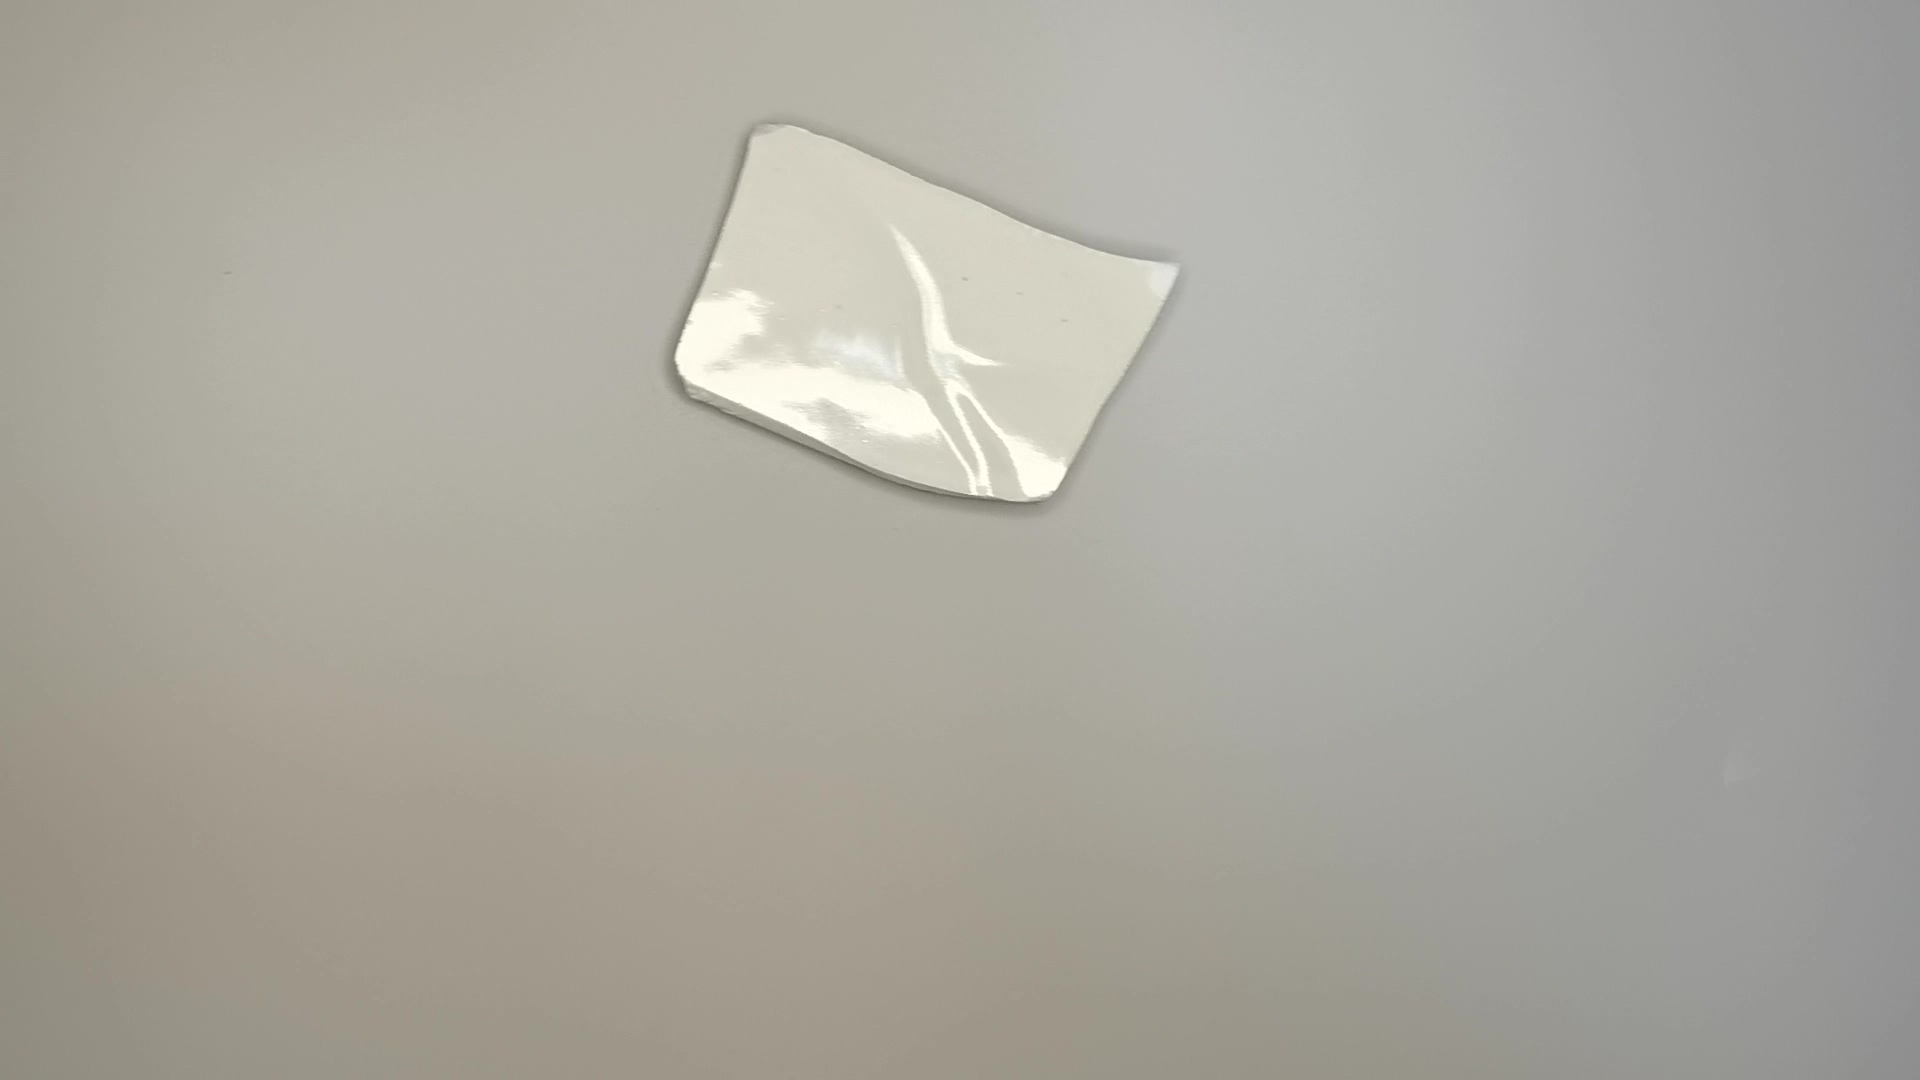ceramic: (663, 115, 1185, 520)
